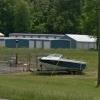Boat: (34, 50, 86, 74)
